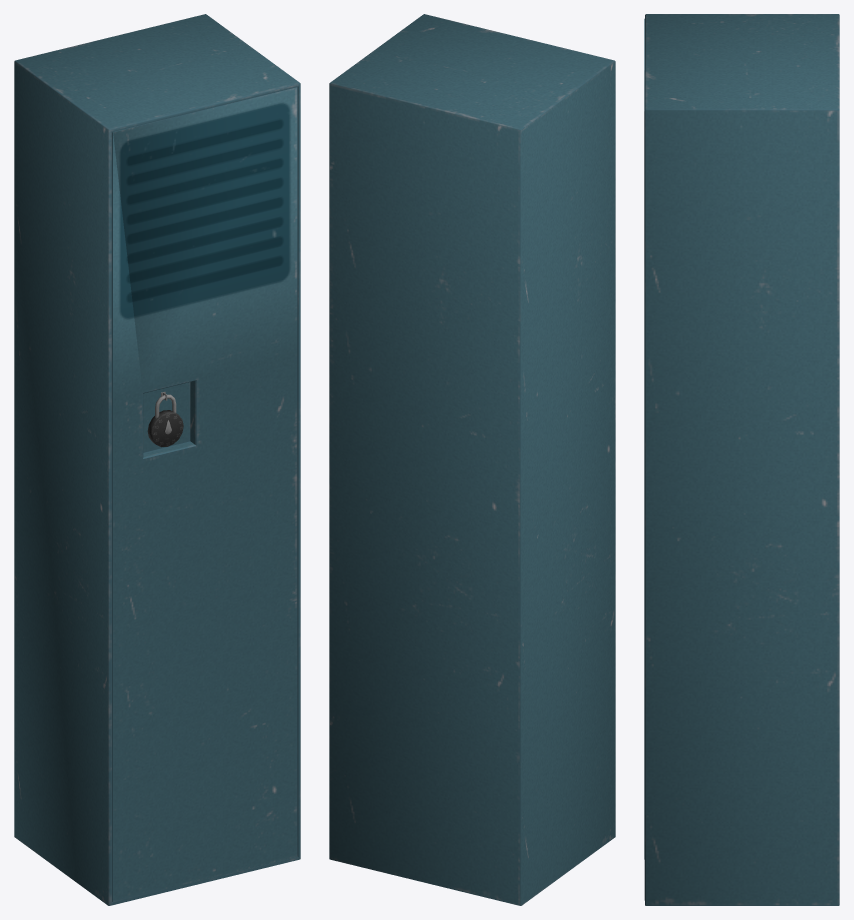
Rendered from Locker02.fbx.
3 renders of one model, left to right at view 1: azimuth 30°, elevation 25°; view 2: azimuth 150°, elevation 25°; view 3: azimuth 270°, elevation 25°, orthographic. The views are drawn at different scales.
Parts seen in each view (by area): view 1: Door_Locker2, Locker2; view 2: Locker2; view 3: Locker2, Door_Locker2.
Part boxes in pixels (left/top/right/bottom): Door_Locker2: left=112, top=87, right=297, bottom=901; Locker2: left=14, top=14, right=300, bottom=905; Locker2: left=329, top=14, right=615, bottom=905; Locker2: left=645, top=14, right=839, bottom=905; Door_Locker2: left=644, top=18, right=644, bottom=900.
Size of the model in its own units: 51.82 by 200 by 44.51.
